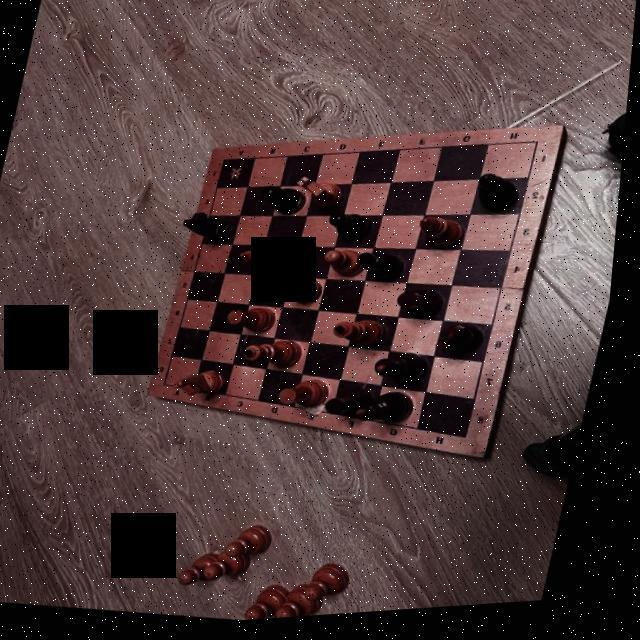chess-table-corners: (468, 438, 482, 448), (536, 143, 547, 154), (224, 158, 234, 166), (167, 382, 177, 390)
